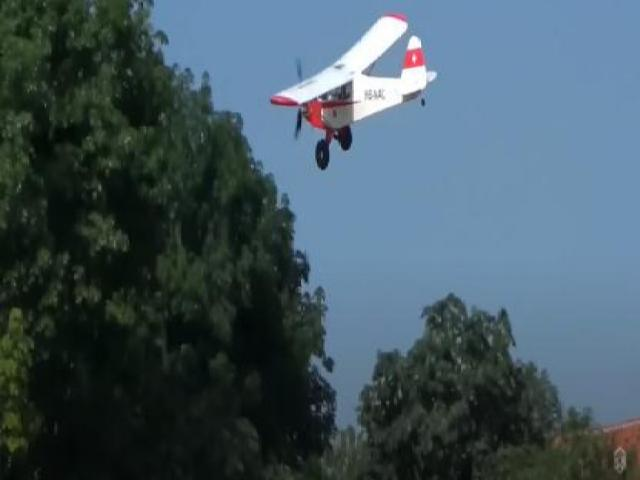uav: (266, 7, 440, 170)
